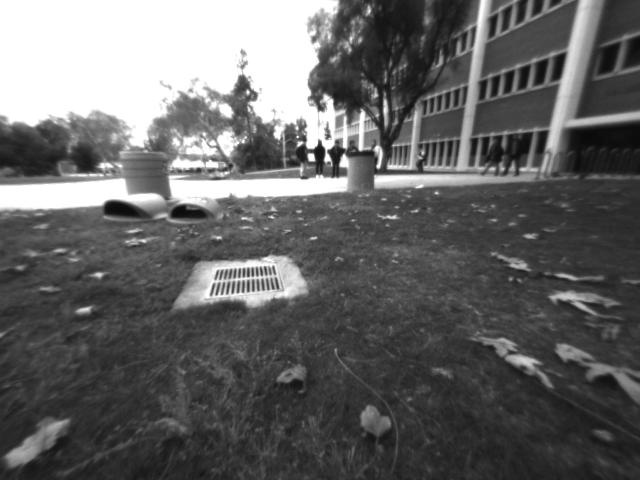trashcan: (116, 151, 173, 206), (348, 154, 371, 192)
